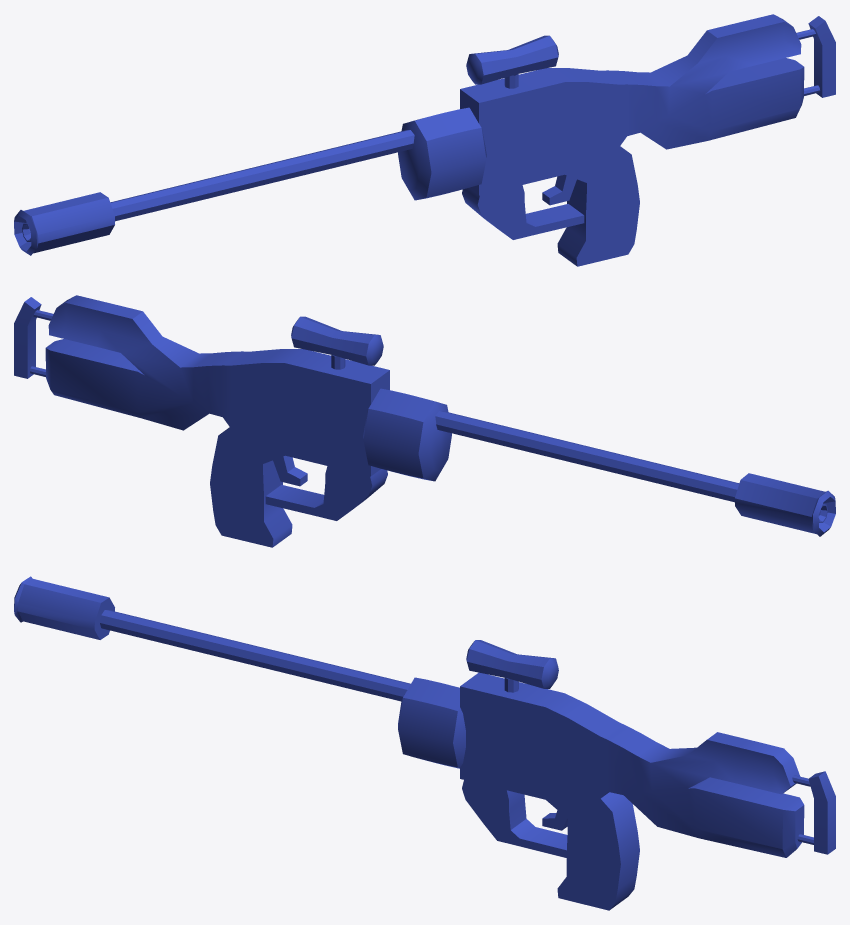
File: Sniper.fbx
3 views of the same model, one above another, from view 1: azimuth 30°, elevation 25°; view 2: azimuth 150°, elevation 25°; view 3: azimuth 330°, elevation 25° (orthographic).
Parts seen in each view (by area): view 1: SniperRifle; view 2: SniperRifle; view 3: SniperRifle.
Part boxes in pixels (x1=…): SniperRifle: x1=14, y1=14, x2=835, y2=266; SniperRifle: x1=14, y1=295, x2=835, y2=547; SniperRifle: x1=14, y1=576, x2=835, y2=910.
Size of the model in its own units: 1771 by 478 by 127.
